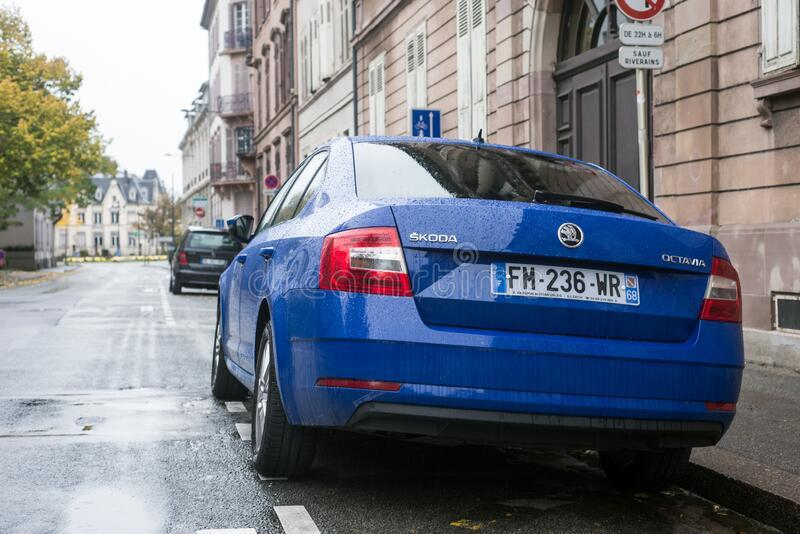skoda: (551, 218, 586, 252)
